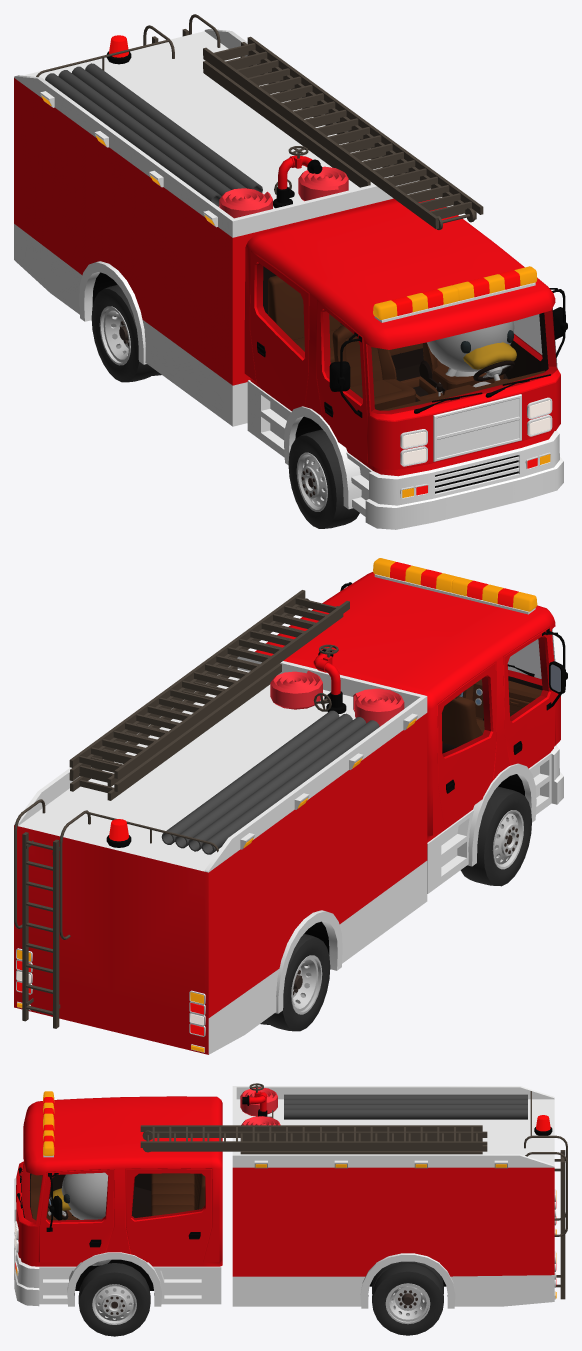
Rendered from ducktruck.glb.
3 views of the same model, one above another, from view 1: azimuth 30°, elevation 25°; view 2: azimuth 150°, elevation 25°; view 3: azimuth 270°, elevation 25° (orthographic). The views are drawn at different scales.
Visible parts, largest first — view 1: Fire_Truck_01_Body, Fire_Truck_01_Props, Fire_Truck_01_Glass, Fire_Truck_01_Cabin, Fire_Truck_01_Lights, Fire_Truck_01_Wheel_FR, Fire_Truck_01_Wheel_RR, character_duckHead; view 2: Fire_Truck_01_Body, Fire_Truck_01_Props, Fire_Truck_01_Glass, Fire_Truck_01_Wheel_FR, Fire_Truck_01_Lights, Fire_Truck_01_Wheel_RR, Fire_Truck_01_Cabin; view 3: Fire_Truck_01_Body, Fire_Truck_01_Props, Fire_Truck_01_Glass, Fire_Truck_01_Wheel_RL, Fire_Truck_01_Wheel_FL, Fire_Truck_01_Cabin, character_duckHead, Fire_Truck_01_Lights.
Part boxes in pixels (<box>): Fire_Truck_01_Body: <box>14,29,567,529</box>; Fire_Truck_01_Props: <box>36,14,483,229</box>; Fire_Truck_01_Glass: <box>257,263,557,413</box>; Fire_Truck_01_Cabin: <box>268,275,545,410</box>; Fire_Truck_01_Lights: <box>41,35,550,497</box>; Fire_Truck_01_Wheel_FR: <box>288,429,359,528</box>; Fire_Truck_01_Wheel_RR: <box>91,284,161,382</box>; character_duckHead: <box>427,321,516,371</box>; Fire_Truck_01_Body: <box>14,572,567,1054</box>; Fire_Truck_01_Props: <box>14,590,404,1028</box>; Fire_Truck_01_Glass: <box>442,629,555,756</box>; Fire_Truck_01_Wheel_FR: <box>460,787,531,886</box>; Fire_Truck_01_Lights: <box>17,558,537,1052</box>; Fire_Truck_01_Wheel_RR: <box>260,934,330,1031</box>; Fire_Truck_01_Cabin: <box>442,679,542,753</box>; Fire_Truck_01_Body: <box>14,1086,555,1308</box>; Fire_Truck_01_Props: <box>140,1083,567,1299</box>; Fire_Truck_01_Glass: <box>22,1162,204,1222</box>; Fire_Truck_01_Wheel_RL: <box>372,1261,443,1335</box>; Fire_Truck_01_Wheel_FL: <box>78,1263,150,1336</box>; Fire_Truck_01_Cabin: <box>30,1173,205,1220</box>; character_duckHead: <box>53,1172,107,1219</box>; Fire_Truck_01_Lights: <box>14,1091,556,1298</box>.
Bounding box in the file's own units: 2.99 × 3.48 × 8.31.
Materials: 6 (2 with a texture image).
